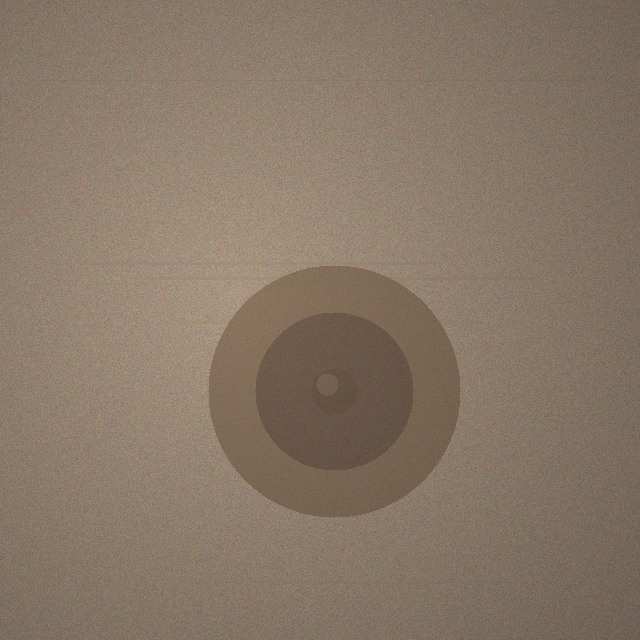good: (208, 265, 460, 517)
